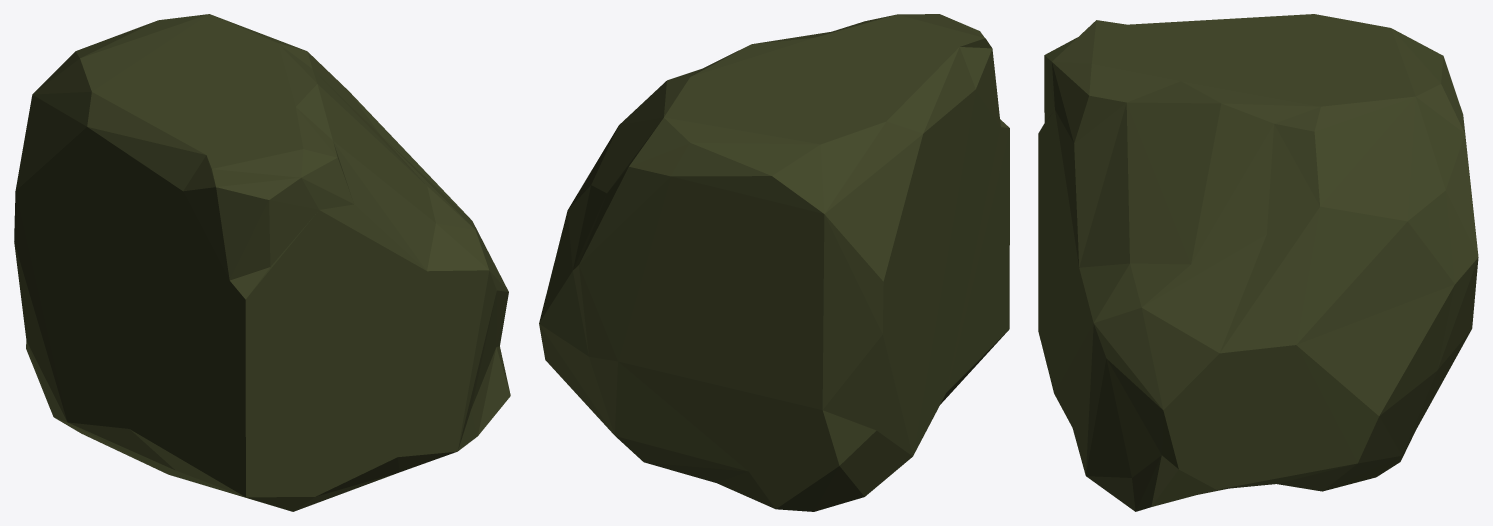
The model's file is SM_small_rock_11.fbx.
3 views of the same model, side by side, from view 1: azimuth 30°, elevation 25°; view 2: azimuth 150°, elevation 25°; view 3: azimuth 270°, elevation 25° (orthographic).
Visible parts, largest first — view 1: small_rock_11; view 2: small_rock_11; view 3: small_rock_11.
Boxes of the visible parts, left/top/right/bottom form: small_rock_11: left=14, top=14, right=510, bottom=511; small_rock_11: left=539, top=14, right=1009, bottom=511; small_rock_11: left=1038, top=14, right=1478, bottom=511.
Size of the model in its own units: 13.32 by 11.96 by 13.35.
